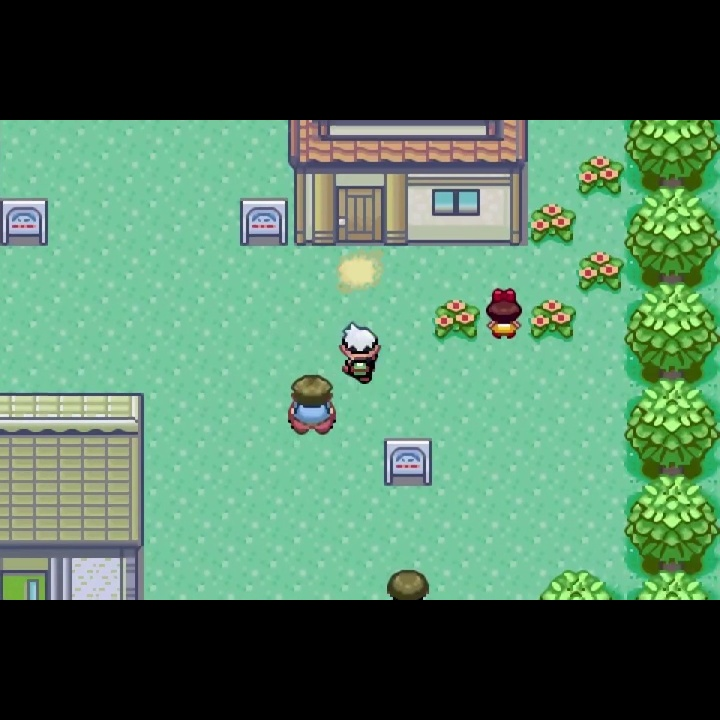house: (285, 121, 531, 248), (1, 391, 147, 599)
npc: (286, 374, 339, 437), (336, 320, 382, 386), (484, 283, 525, 342)
wall: (622, 473, 720, 573), (623, 184, 720, 283), (623, 281, 720, 379), (623, 378, 720, 475), (623, 121, 720, 185), (617, 568, 720, 600), (536, 568, 617, 600)
